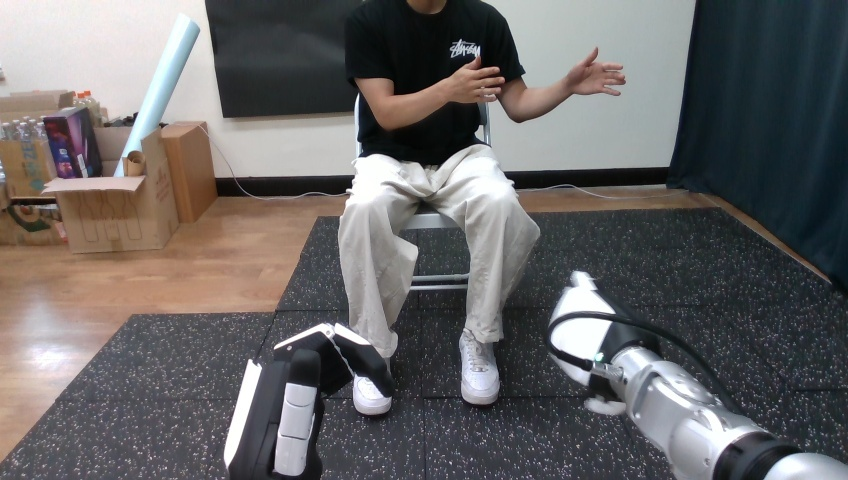left robot hand: (547, 271, 847, 479), (224, 323, 393, 478), (564, 47, 624, 95)
